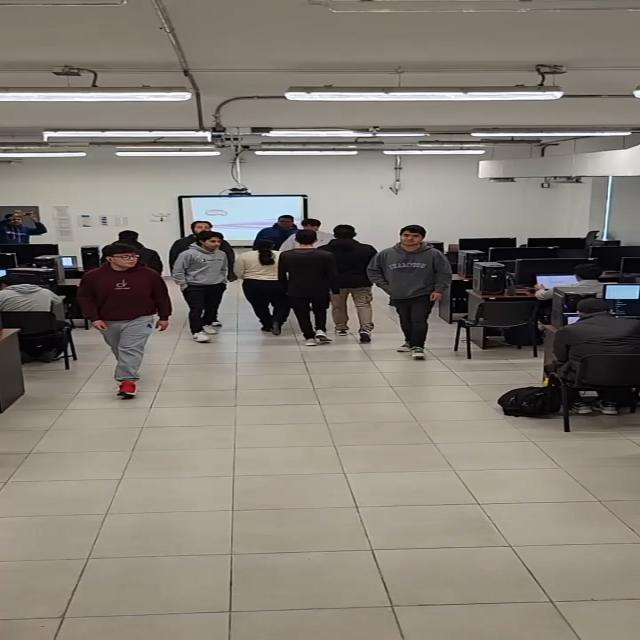Persona: (85, 243, 160, 399), (377, 222, 443, 359), (330, 224, 389, 338), (180, 232, 237, 336), (287, 230, 335, 337), (240, 240, 293, 328), (257, 214, 306, 246), (5, 212, 54, 240), (188, 218, 219, 237)
